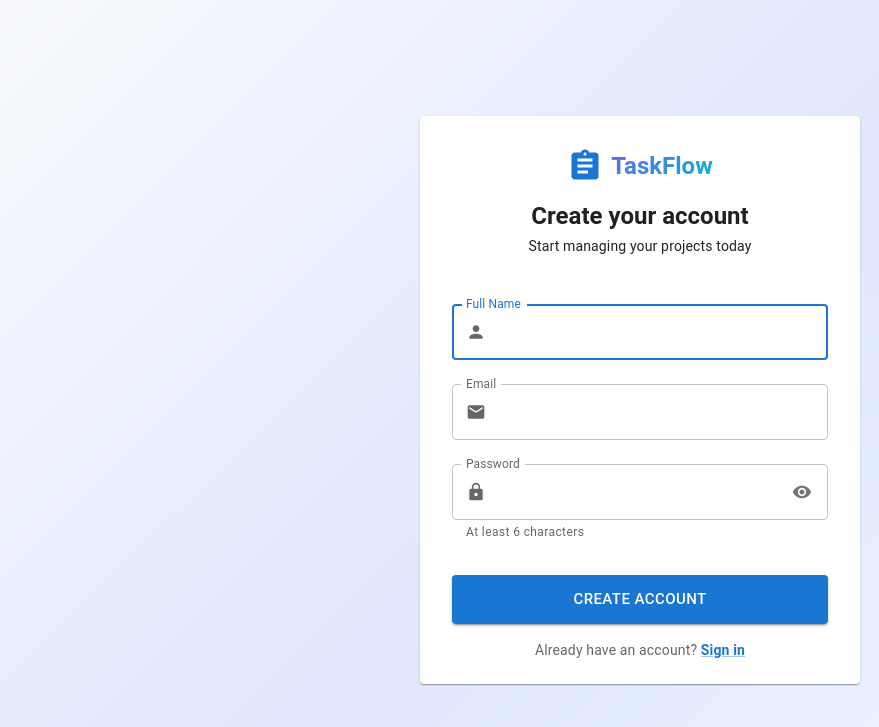
Test: RegisterForm › shows validation errors for empty fields
This screenshot has width=879, height=727.
Click the button "Create Account" at point(640, 599), box [452,575,828,624]
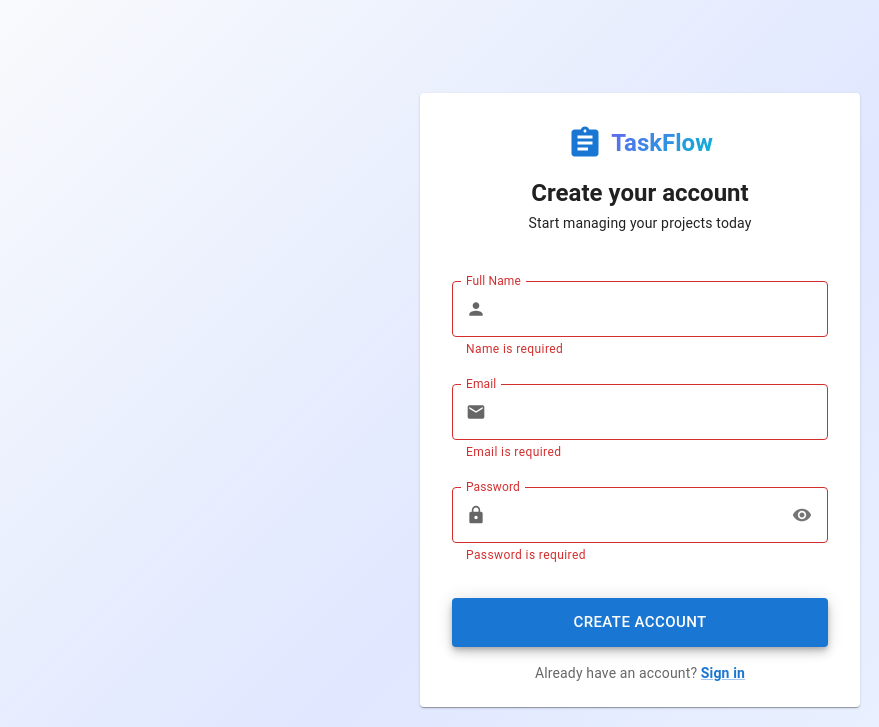
Now the text "Name is required" is shown, box [466,342,563,356]
Now the text "Email is required" is shown, box [466,445,561,459]
Now the text "Password is required" is shown, box [466,548,586,562]
